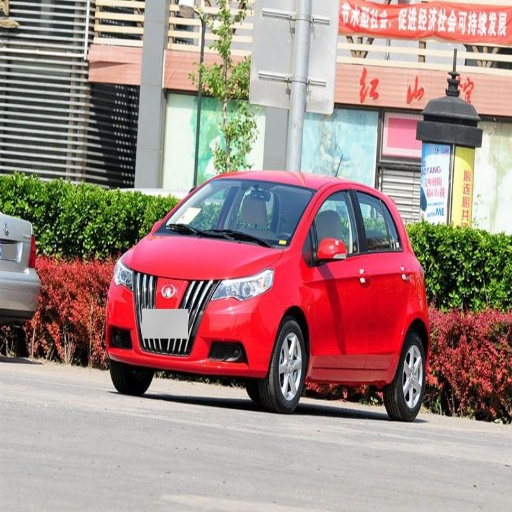front_bumper: (108, 272, 217, 366), (189, 298, 279, 373)
front_glass: (154, 180, 314, 248)
front_left_door: (308, 187, 369, 369)
